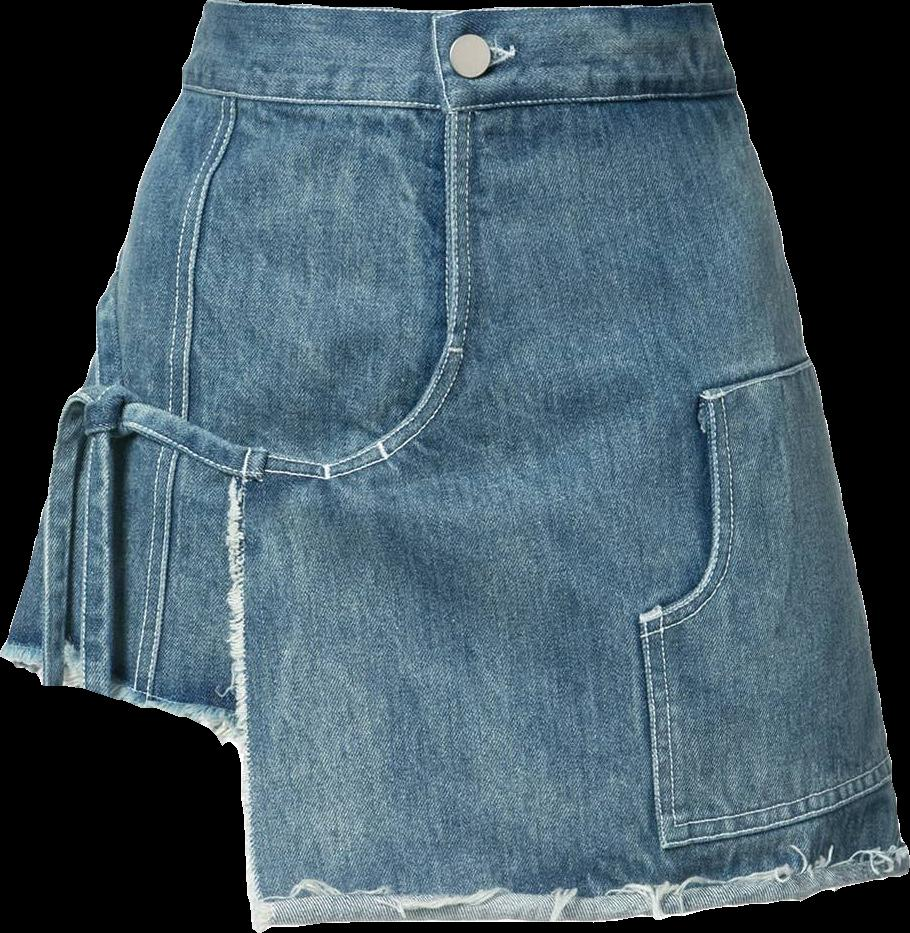Hemline: (4, 646, 909, 931)
Waistline: (225, 115, 456, 728), (175, 84, 741, 116), (199, 0, 718, 16)
